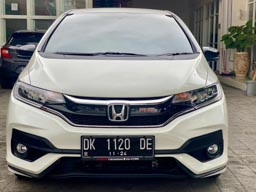plat: (82, 136, 153, 149)
